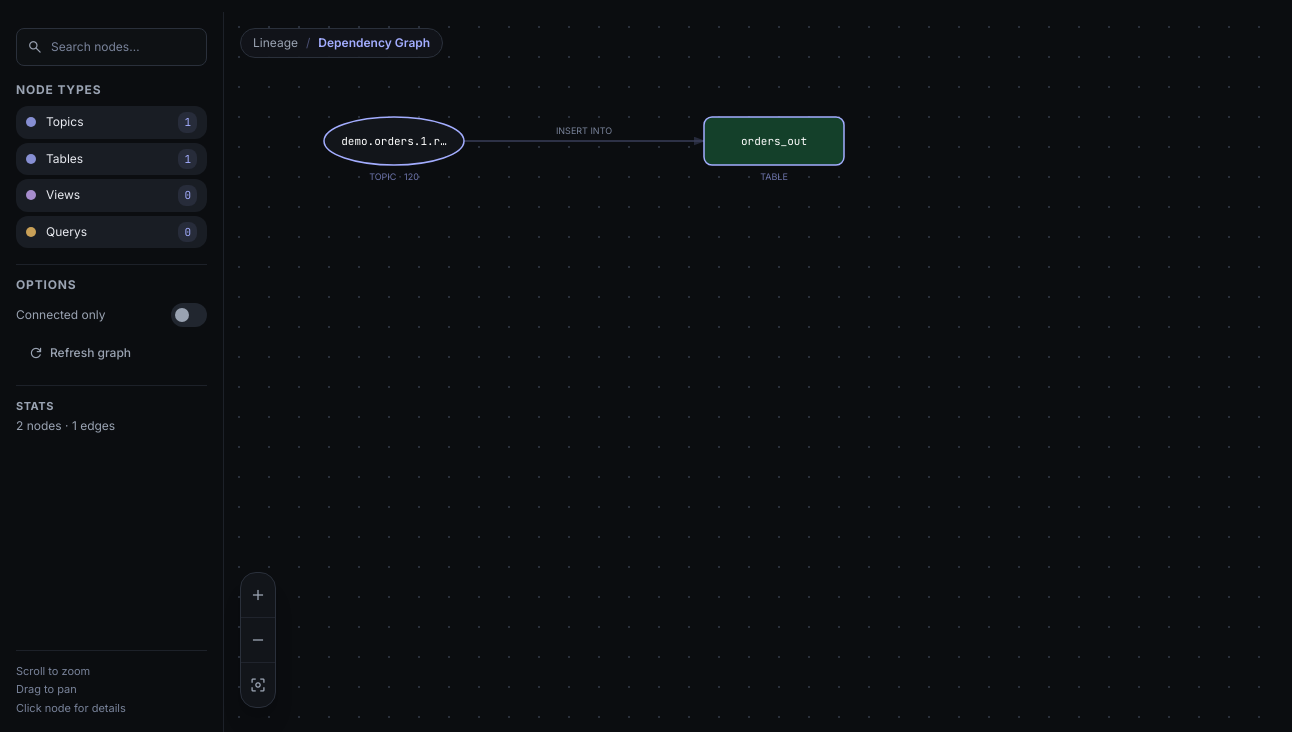
Test case: Lineage page › reports a failed load instead of leaving the previous graph passing for current
Expected: the text "orders_out" is shown, [741,134,807,148]
Click the switch named "Connected only" at (189,315), box [171,303,207,327]
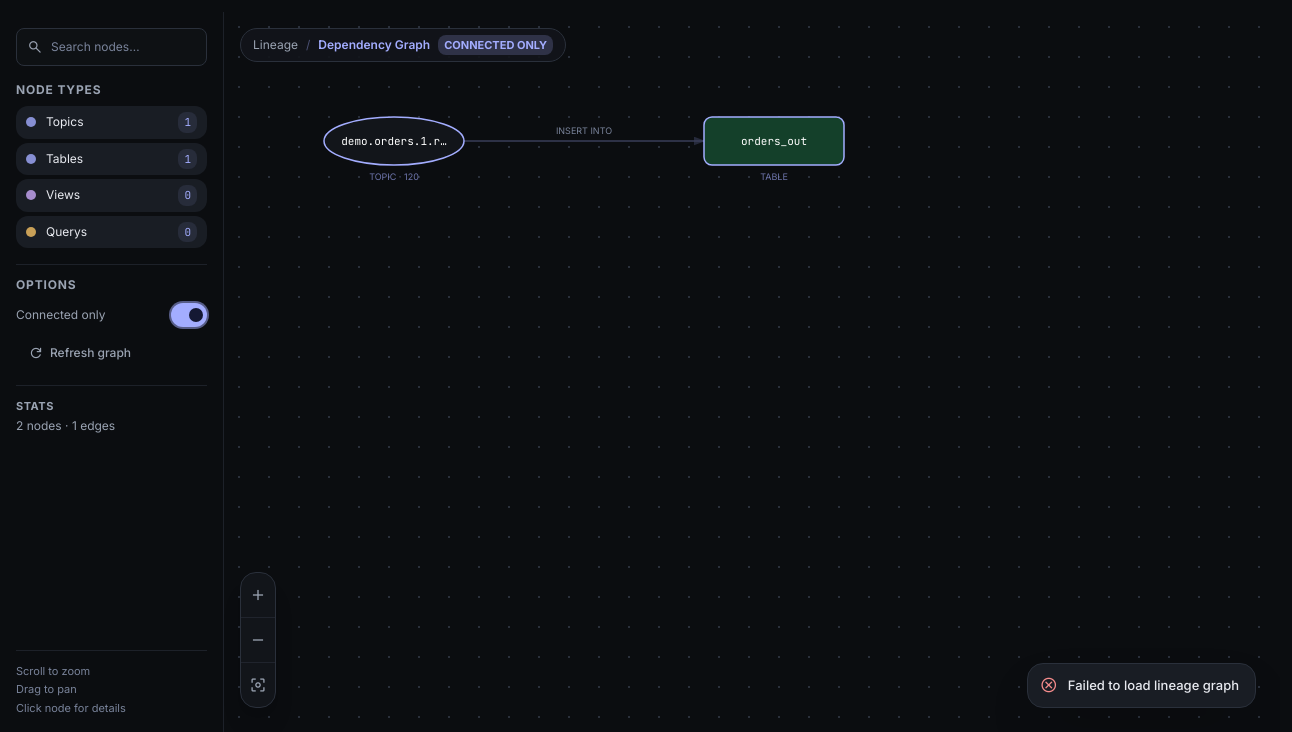
Expected: the text "orders_out" is shown, [741,134,807,148]
Expected: the text "Failed to load lineage graph" is shown, [1027,662,1256,708]
